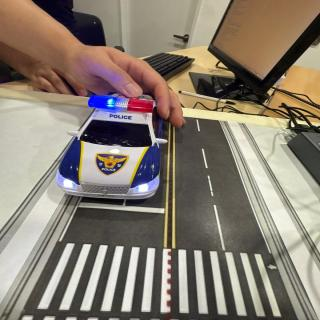Police_car: (56, 93, 167, 199)
